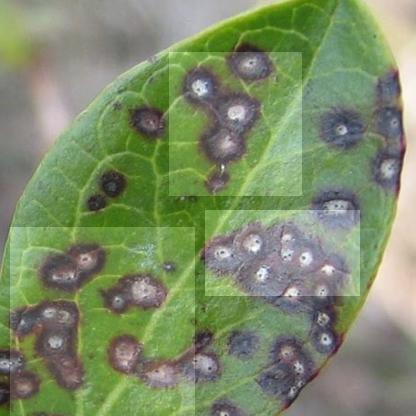black-spot: (10, 227, 195, 416), (169, 52, 302, 196), (205, 210, 360, 296)
